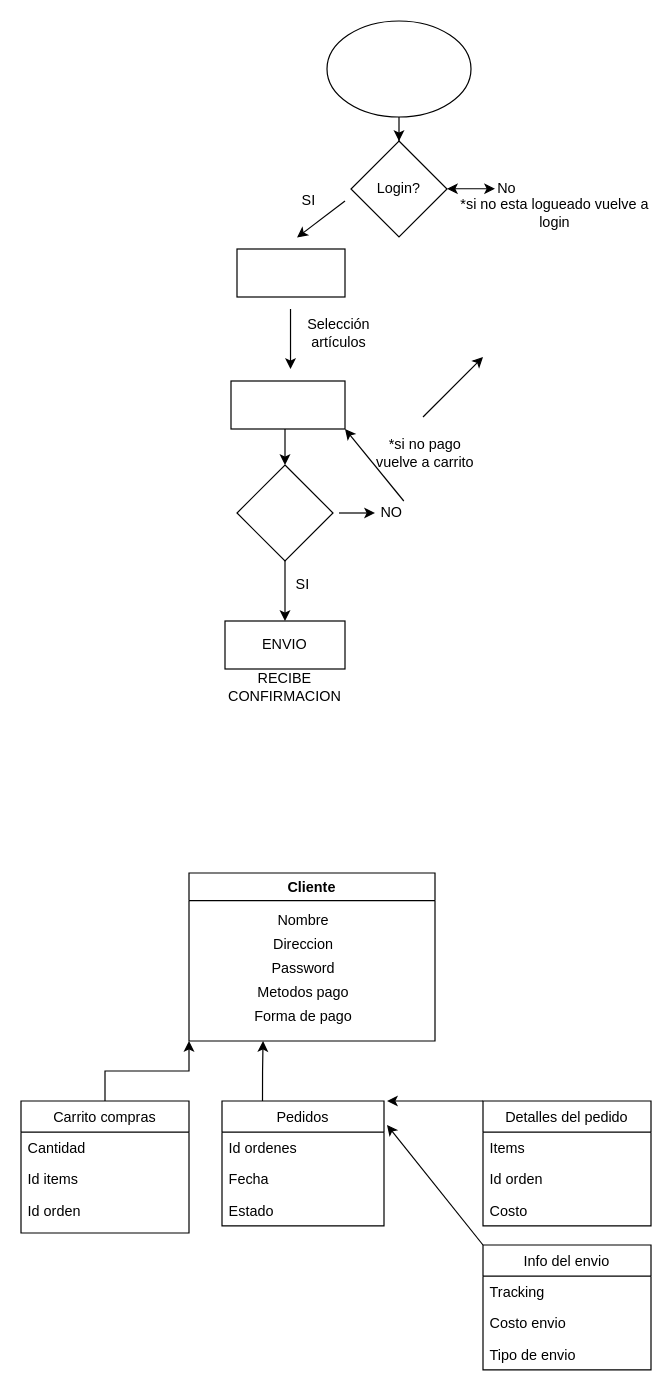
The diagram is 672 pixels wide and 1394 high, and some of its shapes have lost their labels. Each missing label, with the centre of its shape:
"Carrito" belongs at (287,404).
"Listado" belongs at (290,272).
"Page Ecommerce" belongs at (398,68).
"Pago?" belongs at (284,512).
